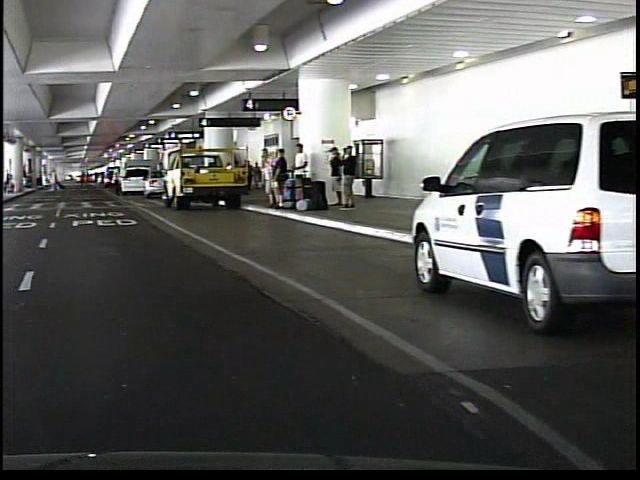person: (336, 144, 354, 211), (254, 144, 273, 206), (44, 161, 60, 195), (106, 166, 118, 198)
